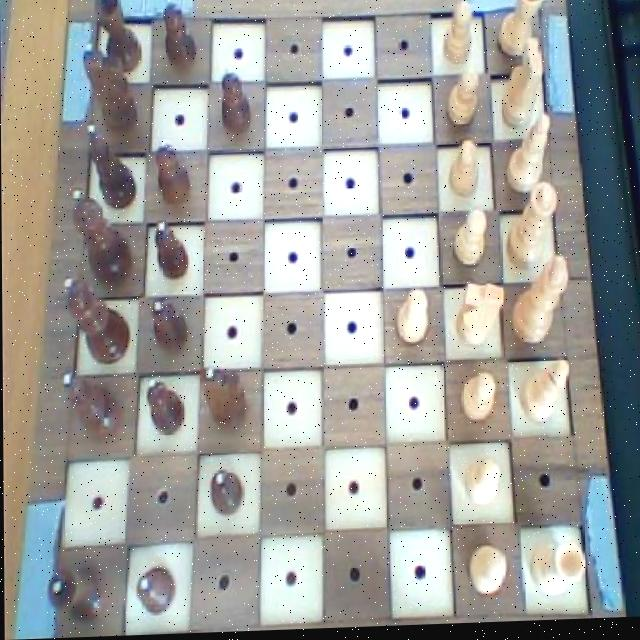bishop: (82, 117, 141, 212), (58, 366, 122, 447)
black-bishop: (60, 272, 131, 367)
black-king: (79, 39, 143, 140), (196, 361, 251, 435)
black-knight: (152, 136, 195, 213), (159, 2, 203, 72), (148, 292, 191, 360), (217, 65, 253, 137), (145, 376, 186, 439), (152, 216, 190, 282), (133, 564, 175, 617), (208, 467, 245, 519)
black-pawn: (67, 184, 134, 289)
black-queen: (94, 0, 147, 80), (48, 560, 111, 626)
black-rook: (503, 113, 557, 200), (516, 356, 574, 433)
white-bishop: (508, 260, 573, 351)
white-king: (498, 33, 546, 136), (448, 274, 504, 353)
white-knight: (462, 540, 512, 603), (437, 2, 477, 74), (449, 210, 493, 275), (445, 64, 485, 134), (454, 370, 499, 432), (391, 286, 433, 352), (460, 454, 503, 517), (447, 138, 482, 207)
white-pawn: (503, 182, 562, 276)
white-queen: (528, 539, 587, 607), (493, 0, 550, 70)
